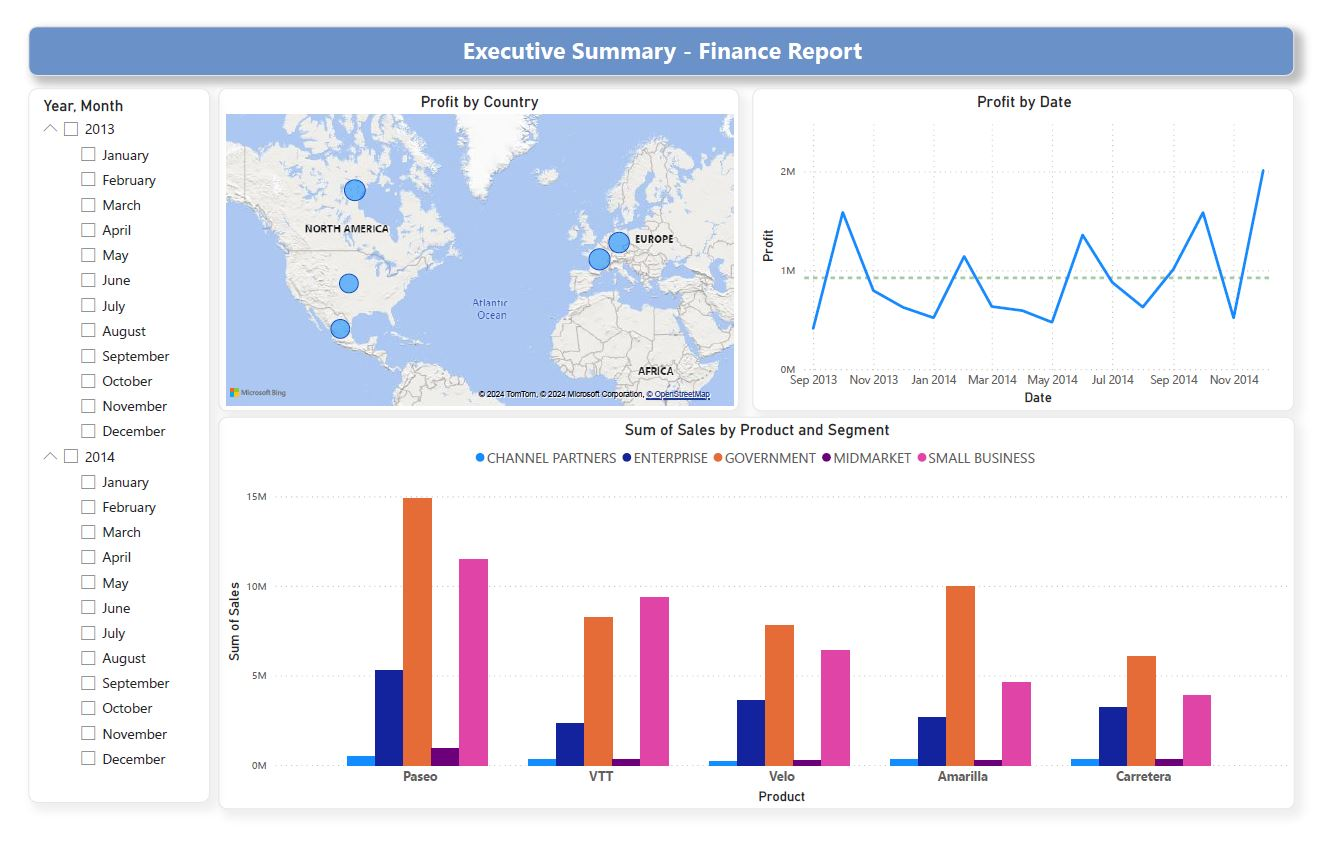

Layout of this report page (visuals, bound fields, positions):
{"tool":"powerbi","page":{"name":"Sales-Summary","canvas":[1480,920],"ordinal":0},"visuals":[{"type":"textbox","box":[12.1,16.9,1458.2,56.9],"z":0},{"type":"lineChart","title":"Profit by Date","fields":{"Category":["Calendar.Date"],"Y":["Sum(financials.Profit)"]},"box":[845.9,88.3,624.4,371.5],"z":1000},{"type":"map","title":"Profit by Country","fields":{"Size":["Sum(financials.Profit)"],"Category":["financials.Country"]},"box":[231.1,88.3,600.2,371.5],"z":2000},{"type":"clusteredColumnChart","fields":{"Y":["Sum(financials. Sales)"],"Category":["financials.Product"],"Series":["financials.Segment"]},"box":[231.1,466.8,1239.5,452.1],"z":3000},{"type":"slicer","fields":{"Values":["Calendar.Date.Variation.Date Hierarchy.Year","Calendar.Date.Variation.Date Hierarchy.Month"]},"box":[12.1,88.3,209.4,822.9],"z":3001}]}

Visuals, with their boxes in screenshot pixels (x1, y1, x2, y2), scaled from the page's 1480x920 canvas onto the 1328x841 screenshot:
textbox: rect(11, 15, 1319, 67)
"Profit by Date" lineChart: rect(759, 81, 1319, 420)
"Profit by Country" map: rect(207, 81, 746, 420)
clusteredColumnChart - Sum(financials. Sales) x financials.Product: rect(207, 427, 1320, 840)
slicer - Calendar.Date.Variation.Date Hierarchy.Year x Calendar.Date.Variation.Date Hierarchy.Month: rect(11, 81, 199, 833)
